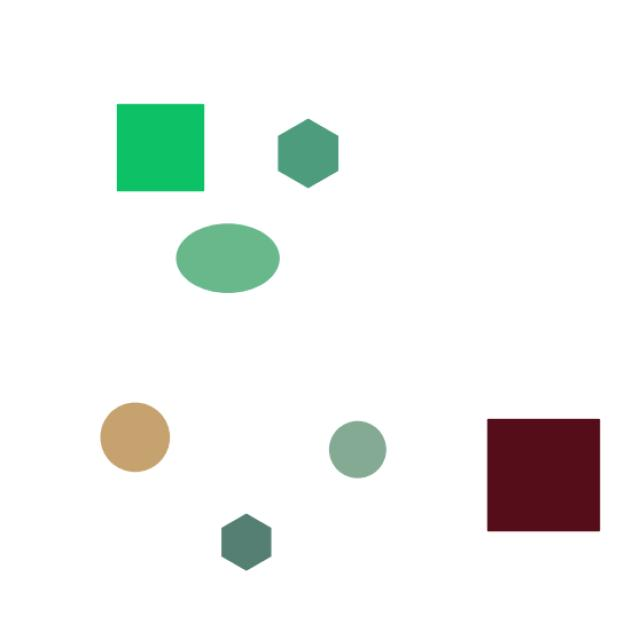Circle: (94, 398, 188, 486), (321, 421, 404, 494)
Hexagon: (266, 118, 362, 200), (211, 504, 292, 578)
Oval: (166, 219, 301, 302)
square: (474, 404, 614, 550), (99, 94, 232, 204)
